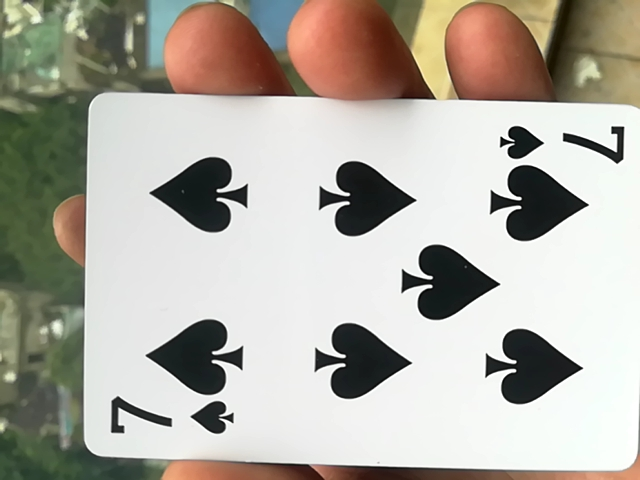ht 7: (79, 93, 638, 478)
